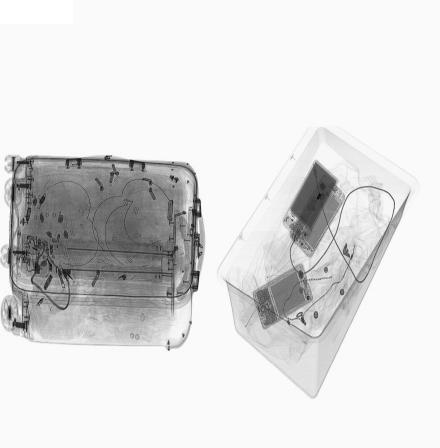Powerbank: (281, 159, 339, 245)
